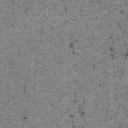oxide scale of temperature system: (70, 40, 78, 48), (78, 108, 84, 117), (124, 52, 128, 60), (110, 54, 114, 60), (110, 47, 114, 52), (69, 114, 74, 118)
